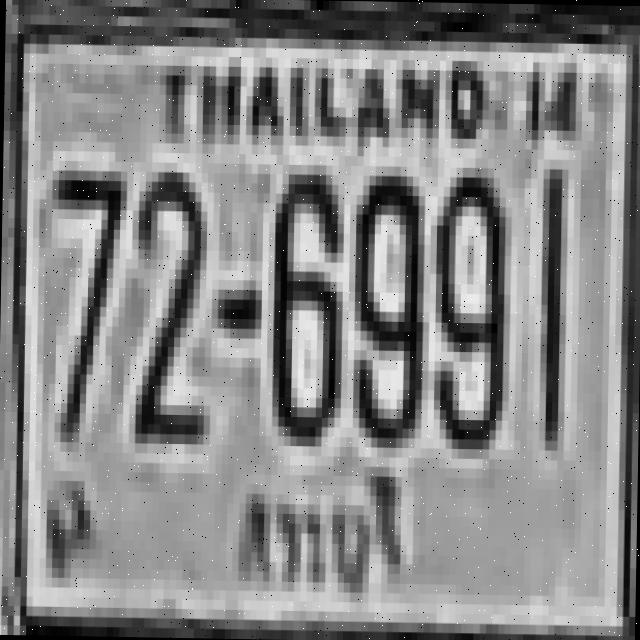1: (536, 164, 566, 445)
2: (132, 166, 205, 440)
6: (266, 164, 338, 436)
7: (48, 160, 121, 433)
9: (427, 166, 506, 440), (349, 165, 422, 438)
SaraBuri: (227, 462, 426, 616)
